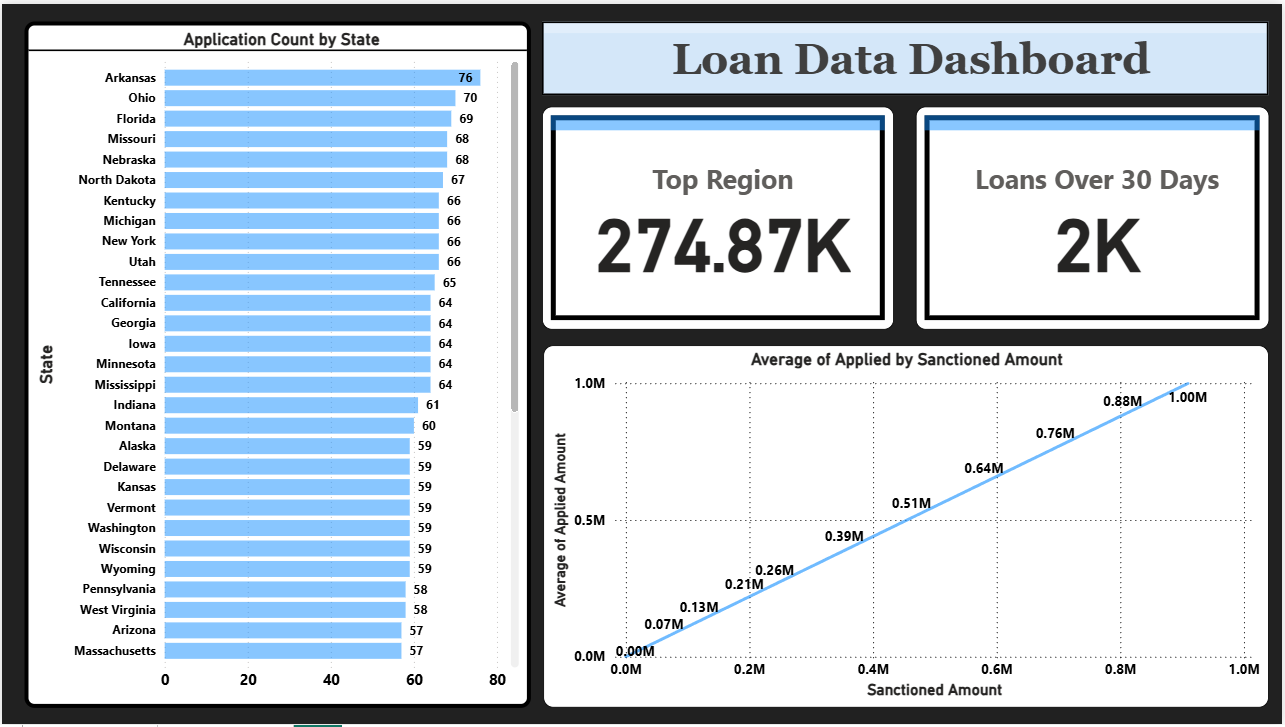

What the dashboard file says about the page in this screenshot:
{"tool":"powerbi","page":{"name":"Dashboard 1","canvas":[1280,720],"ordinal":0},"visuals":[{"type":"barChart","title":"Application Count by State","fields":{"Category":["Final_Standardized_Loan_Data.State"],"Y":["CountNonNull(Final_Standardized_Loan_Data.Application Number)"]},"box":[22,17.8,506.3,686.1],"z":0},{"type":"lineChart","title":"Average of Applied by Sanctioned Amount","fields":{"Y":["Avg(Final_Standardized_Loan_Data.Applied Amount)"],"Category":["Final_Standardized_Loan_Data.Sanctioned Amount"]},"box":[540.7,341.7,725.9,362.3],"z":1000},{"type":"cardVisual","fields":{"Data":["Final_Standardized_Loan_Data.Top Region"]},"box":[540.5,102.5,352.3,223.2],"z":2000},{"type":"cardVisual","fields":{"Data":["Final_Standardized_Loan_Data.Loans Over 30 Days"]},"box":[913.3,102.5,353.5,223.2],"z":3000},{"type":"textbox","box":[540.5,18.1,726.3,73.6],"z":3002}]}

Visuals, with their boxes in screenshot pixels (x1, y1, x2, y2), scaled from the page's 1280x720 canvas onto the 1285x727 screenshot:
"Application Count by State" barChart: 22:18:530:711
"Average of Applied by Sanctioned Amount" lineChart: 543:345:1272:711
cardVisual - Final_Standardized_Loan_Data.Top Region: 543:103:896:329
cardVisual - Final_Standardized_Loan_Data.Loans Over 30 Days: 917:103:1272:329
textbox: 543:18:1272:93
